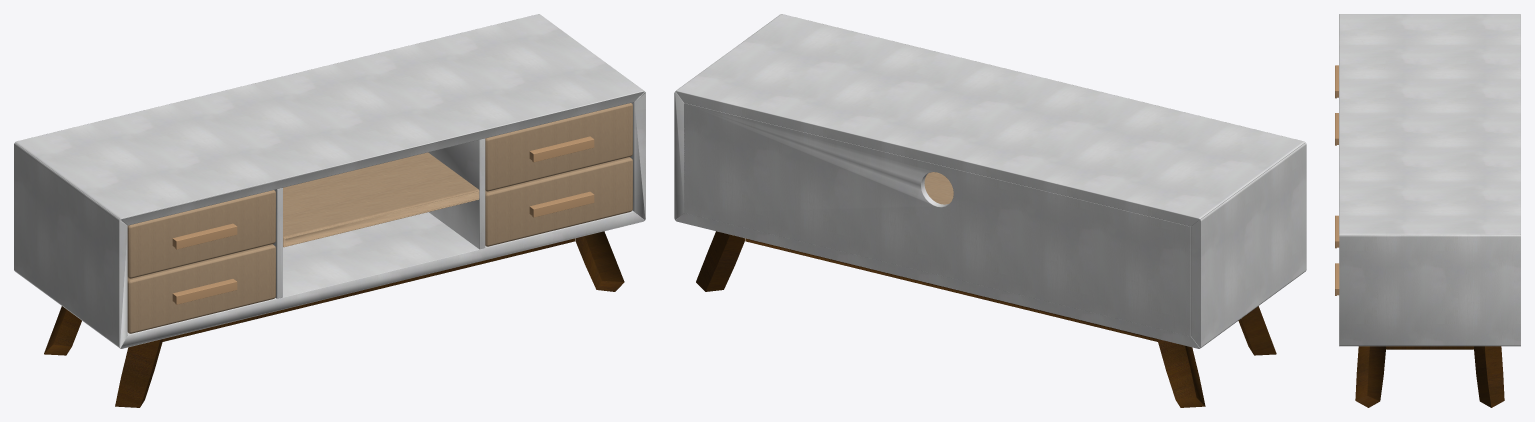
Rendered from white-laminate-tv-cabinet.glb.
3 views of the same model, side by side, from view 1: azimuth 30°, elevation 25°; view 2: azimuth 150°, elevation 25°; view 3: azimuth 270°, elevation 25° (orthographic). The views are drawn at different scales.
Visible parts, largest first — view 1: Layer:0.004, Layer:0.006, Layer:0.016, Layer:0.019, Layer:0.014, Layer:0.017, Layer:0.002, Layer:0.009, Layer:0.013, Layer:0.015, Layer:0.020; view 2: Layer:0.004, Layer:0.002, Layer:0.006; view 3: Layer:0.004, Layer:0.002.
Part boxes in pixels (x1,y1,x2,y2): Layer:0.004: [14, 14, 645, 348]; Layer:0.006: [283, 152, 479, 247]; Layer:0.016: [127, 244, 275, 333]; Layer:0.019: [485, 157, 632, 246]; Layer:0.014: [127, 190, 275, 278]; Layer:0.017: [485, 103, 632, 191]; Layer:0.002: [44, 231, 624, 407]; Layer:0.009: [529, 191, 594, 217]; Layer:0.013: [529, 136, 594, 162]; Layer:0.015: [172, 223, 237, 249]; Layer:0.020: [172, 279, 237, 304]; Layer:0.004: [674, 14, 1306, 348]; Layer:0.002: [696, 231, 1276, 407]; Layer:0.006: [924, 172, 953, 204]; Layer:0.004: [1339, 14, 1520, 346]; Layer:0.002: [1355, 346, 1504, 407].
Bounding box in the file's own units: 1.56 × 0.5748 × 0.552.
4 materials, 3 textured.
